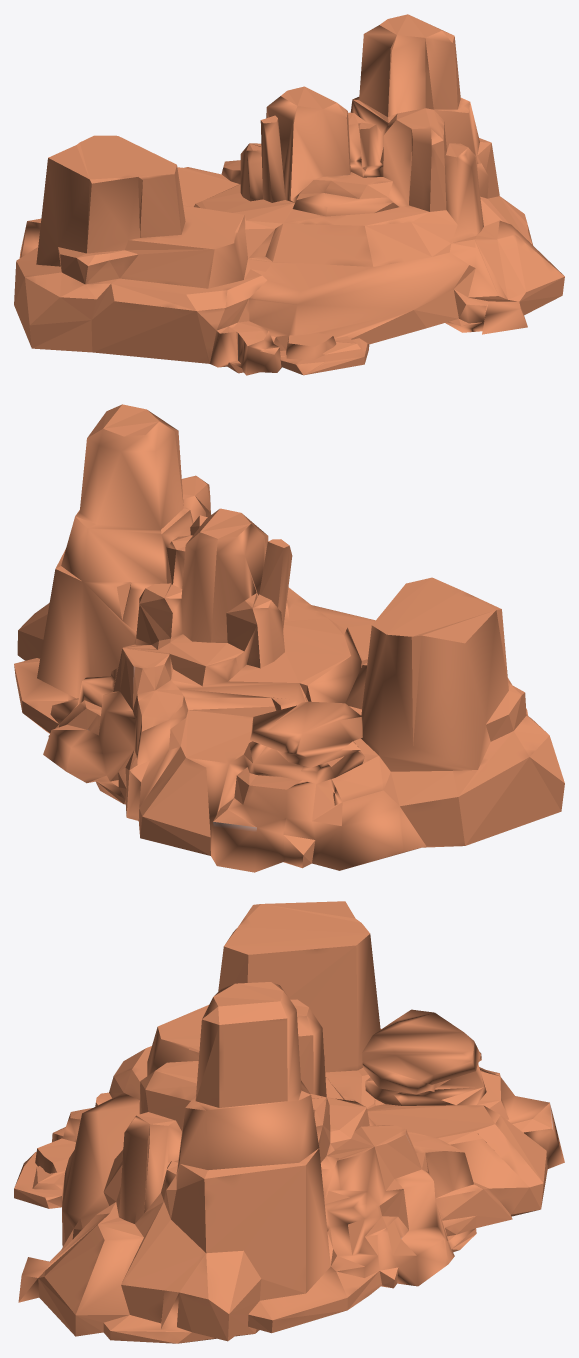
File: BigRock4.fbx
3 renders of one model, top to bottom at view 1: azimuth 30°, elevation 25°; view 2: azimuth 150°, elevation 25°; view 3: azimuth 270°, elevation 25°, orthographic. The views are drawn at different scales.
Parts seen in each view (by area): view 1: BigRock4_LOD0; view 2: BigRock4_LOD0; view 3: BigRock4_LOD0.
Boxes of the visible parts, x1=… form: BigRock4_LOD0: x1=14, y1=14, x2=564, y2=375; BigRock4_LOD0: x1=14, y1=404, x2=564, y2=872; BigRock4_LOD0: x1=14, y1=901, x2=564, y2=1343.
Size of what is drawn, in the model's own units: 1939 by 958 by 1570.
